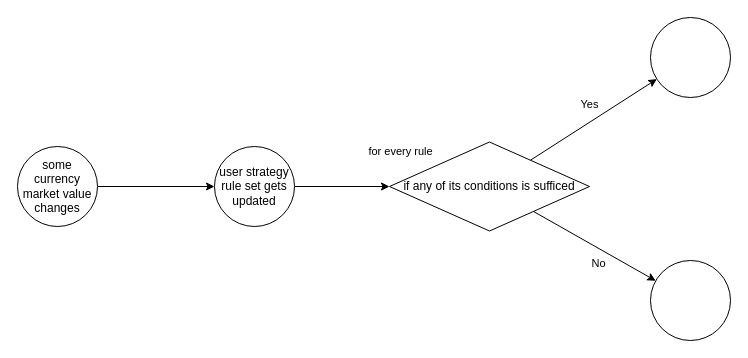
Some shapes in this 748 by 358 pixel diagram are drawn without their labels. The centre of each missing label's shape, as x and y in pixels:
"apply asociated actions in order" belongs at point (690, 57).
"end" belongs at point (690, 300).
